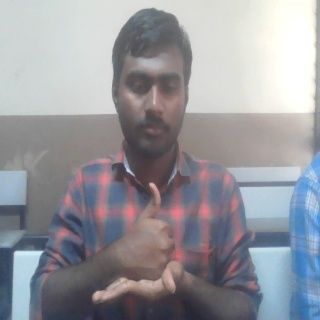Face: (109, 5, 193, 166)
Help: (90, 179, 190, 307)
